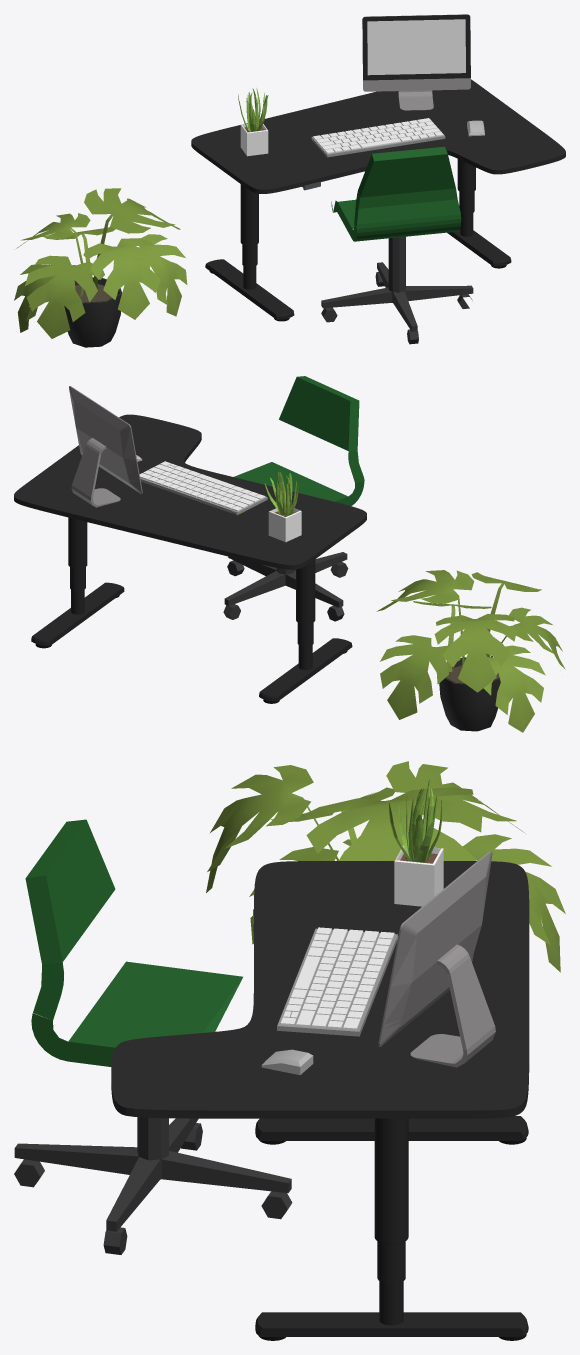
The model's file is portfolio_scene_baked_final.glb.
3 renders of one model, top to bottom at view 1: azimuth 30°, elevation 25°; view 2: azimuth 150°, elevation 25°; view 3: azimuth 270°, elevation 25°, orthographic. The views are drawn at different scales.
Visible parts, largest first — view 1: Desk, Houseplant_7, Chair, iMac, keyboard, plant; view 2: Desk, Houseplant_7, Chair, iMac, keyboard, plant; view 3: Desk, Chair, Houseplant_7, iMac, keyboard, plant, Comp_Mouse.
Boxes of the visible parts, x1,y1,x2,y2 form: Desk: (191, 79, 565, 321); Houseplant_7: (14, 188, 187, 347); Chair: (321, 146, 473, 344); iMac: (362, 14, 470, 110); keyboard: (311, 118, 445, 157); plant: (238, 88, 268, 156); Desk: (14, 414, 366, 703); Houseplant_7: (376, 570, 565, 732); Chair: (223, 376, 364, 621); iMac: (69, 386, 142, 507); keyboard: (139, 461, 267, 515); plant: (264, 472, 301, 542); Desk: (111, 861, 529, 1340); Chair: (14, 819, 292, 1254); Houseplant_7: (206, 761, 565, 972); iMac: (378, 851, 495, 1067); keyboard: (277, 927, 398, 1036); plant: (388, 779, 443, 906); Comp_Mouse: (261, 1049, 313, 1074).
Bounding box in the file's own units: 3.48 × 1.59 × 1.87.
